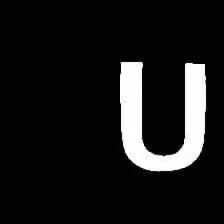LTR_U: (113, 51, 211, 178)
